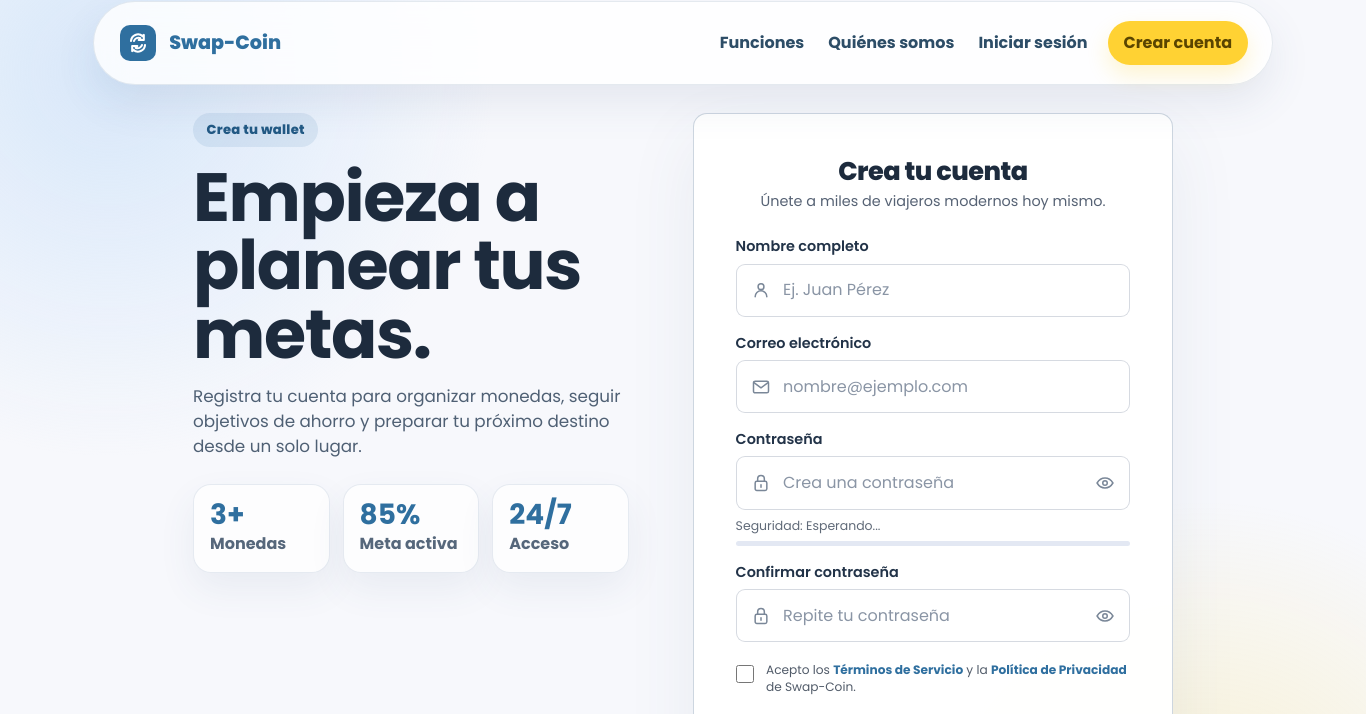
Test: RegisterPage › shows API errors returned by auth context
Type "Andres Arias" into the field labelled "Nombre completo" at (933, 290), box [736, 264, 1130, 317]
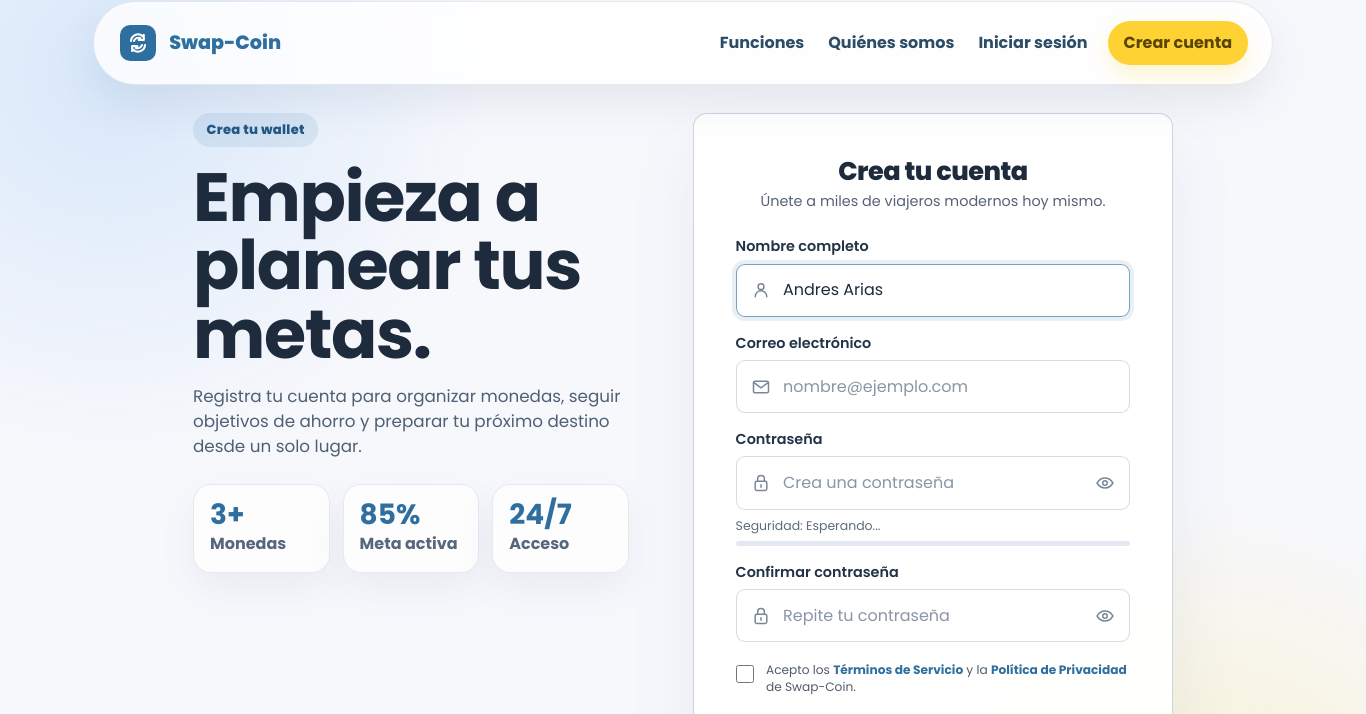
Type "andres@example.com" into the field labelled "Correo electrónico" at (933, 387), box [736, 360, 1130, 413]
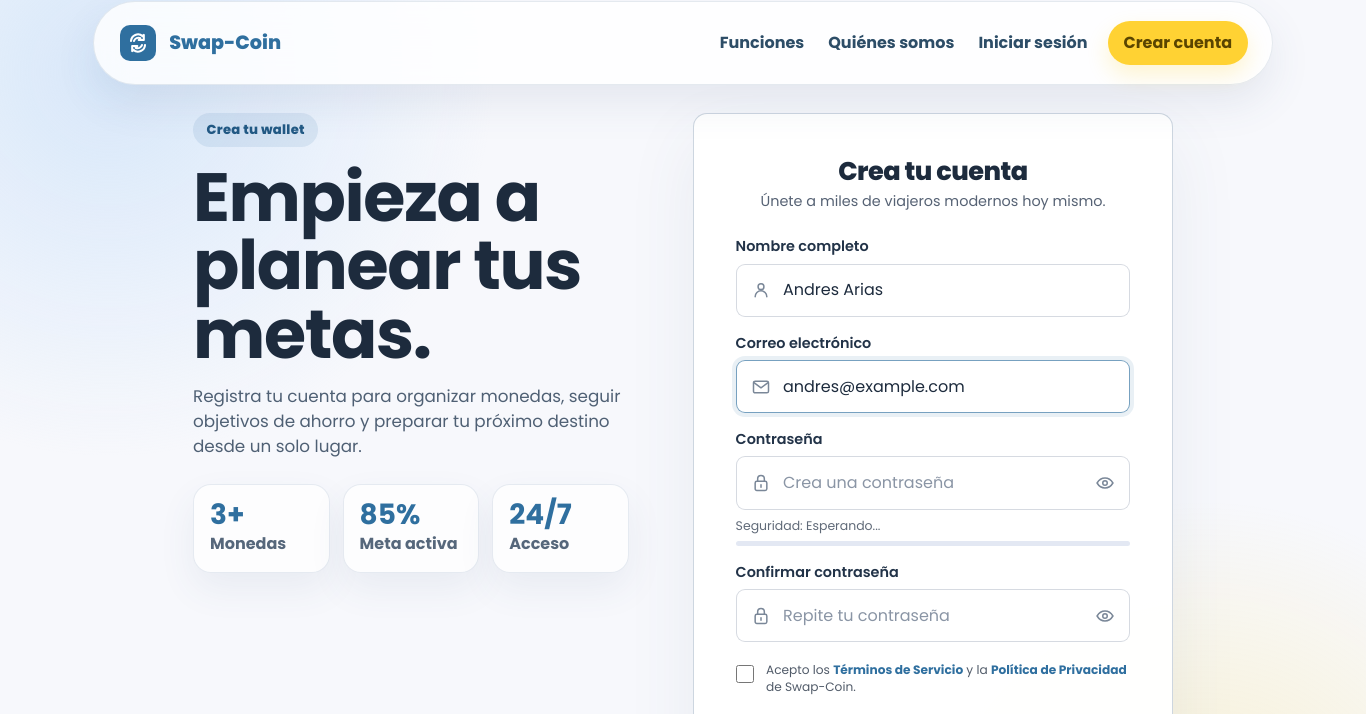
Type "Andres234." into the password field labelled "Contraseña" at (933, 483), box [736, 456, 1130, 510]
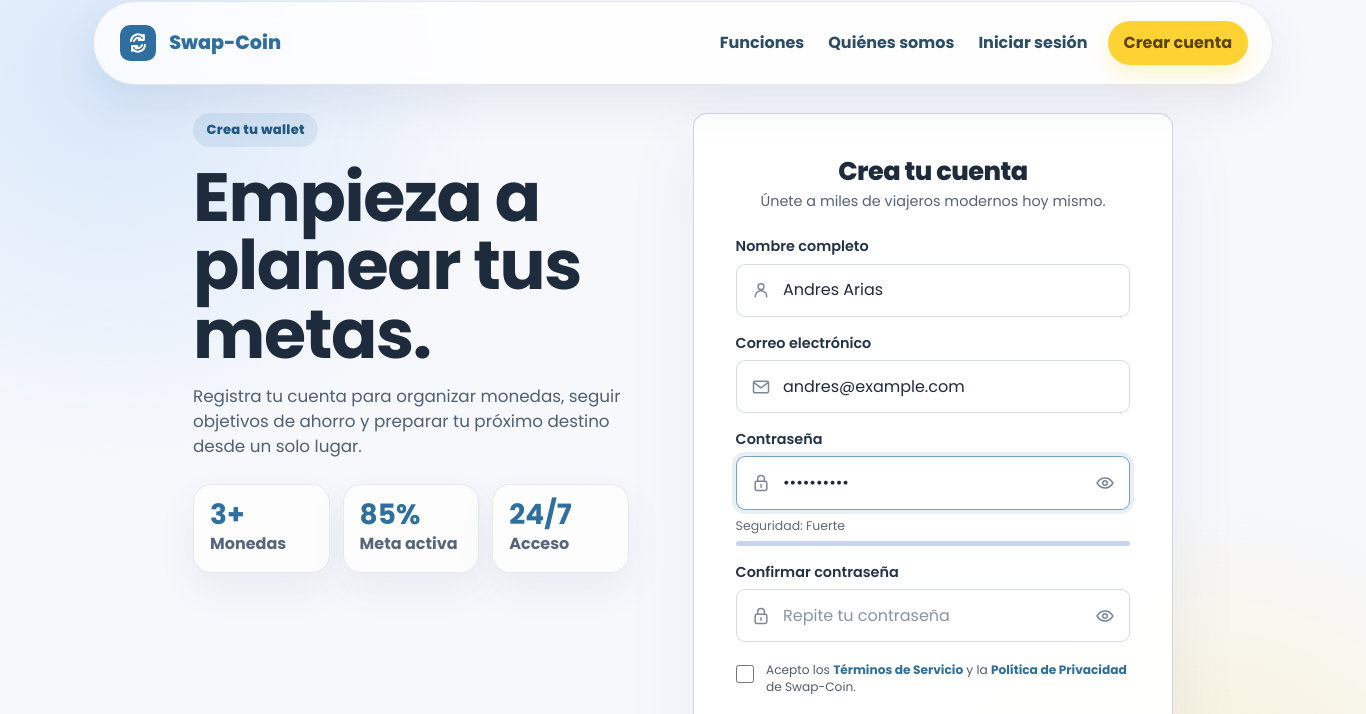
Type "Andres234." into the password field labelled "Confirmar contraseña" at (933, 616), box [736, 589, 1130, 642]
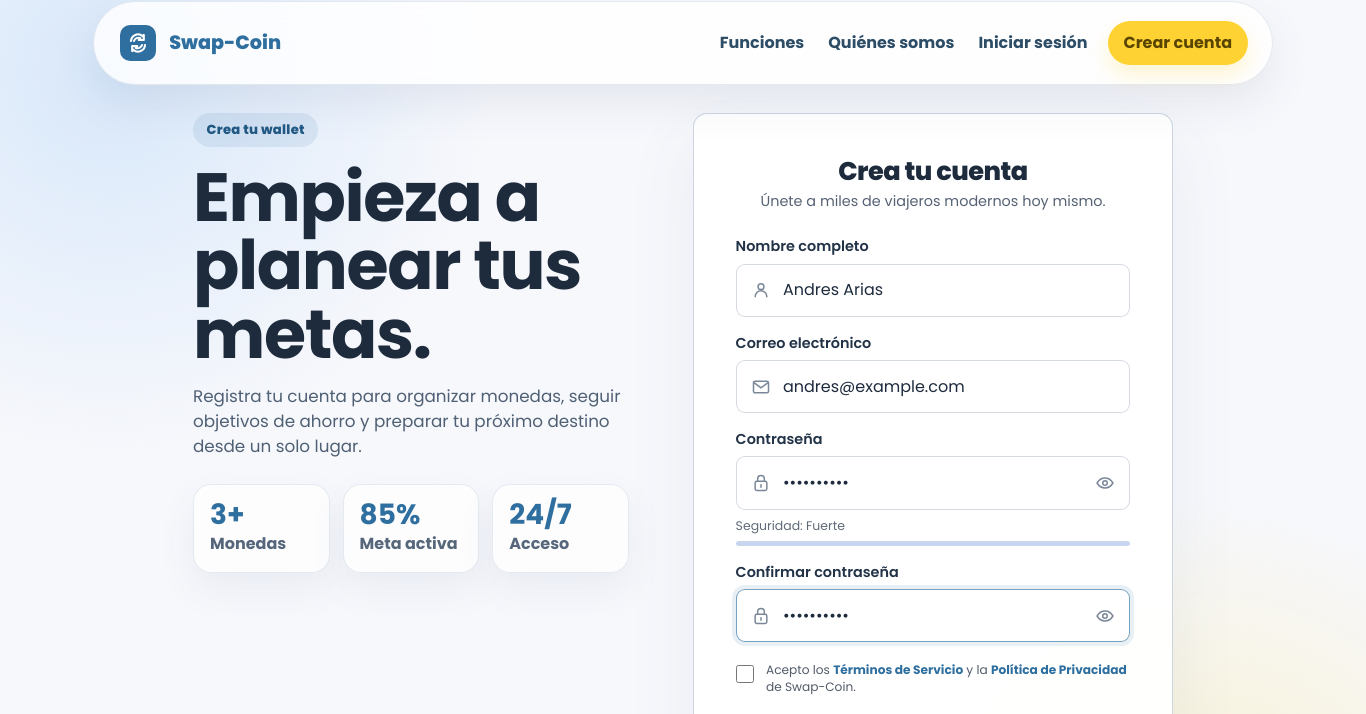
Click the checkbox labelled "Acepto" at (745, 674), box [736, 665, 754, 683]
(page scrolled)
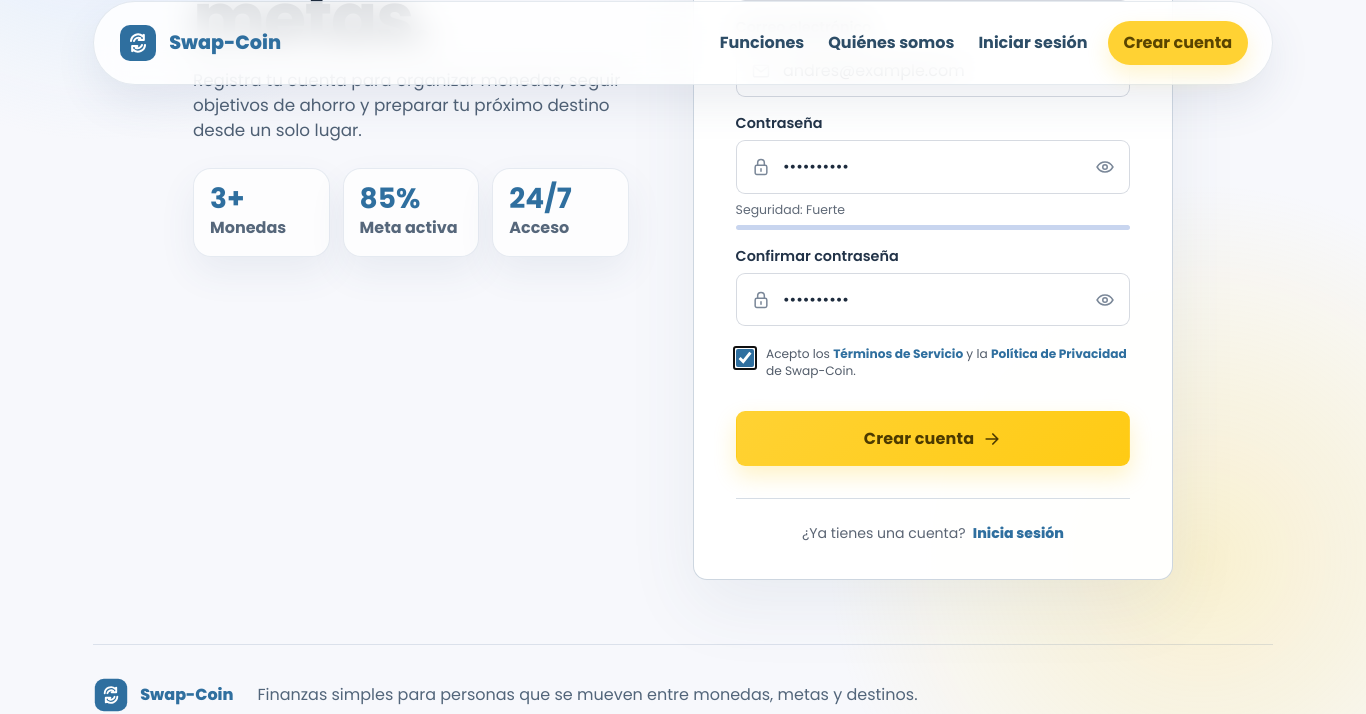
Click the button "Crear cuenta" at (933, 439), box [736, 411, 1130, 466]
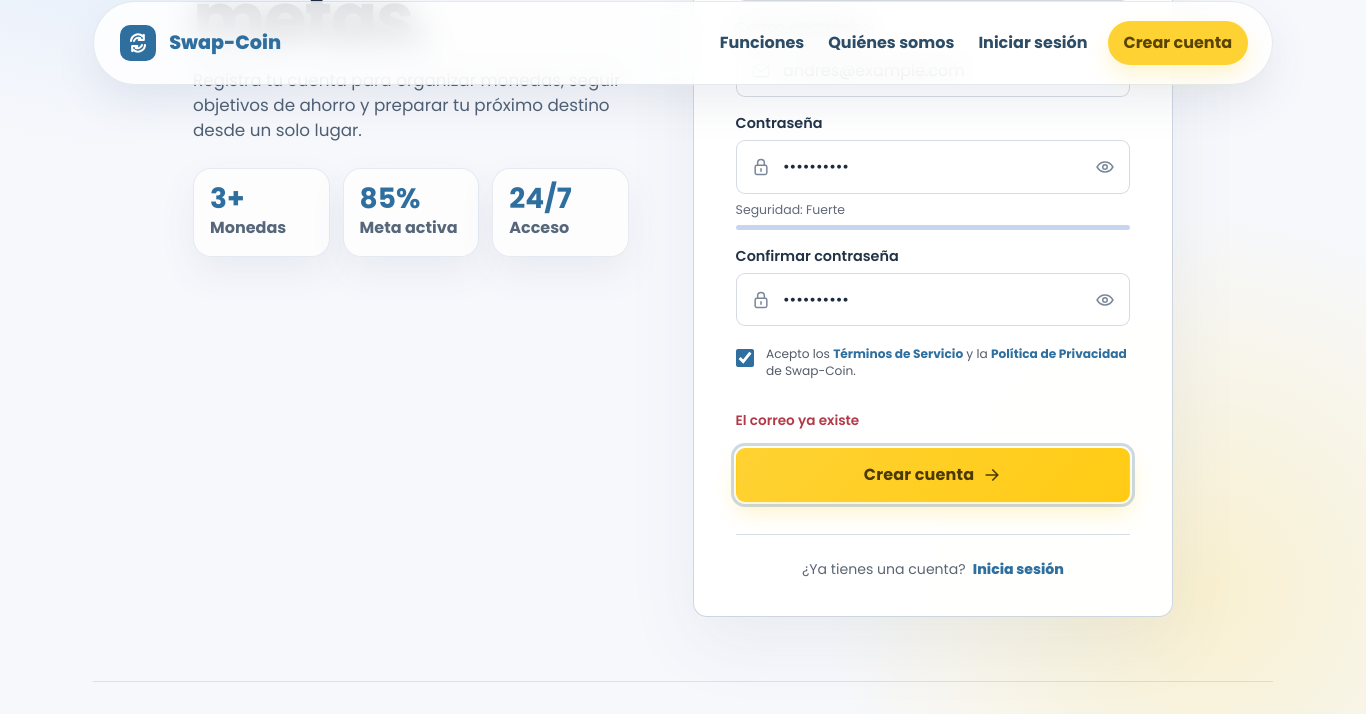
Result: the message reads "El correo ya existe" at [736, 411, 859, 430]
